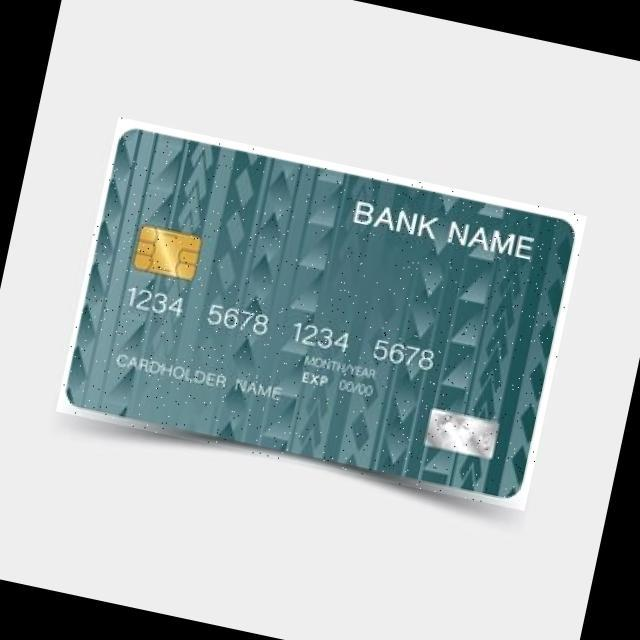payment_card: (55, 116, 586, 512)
